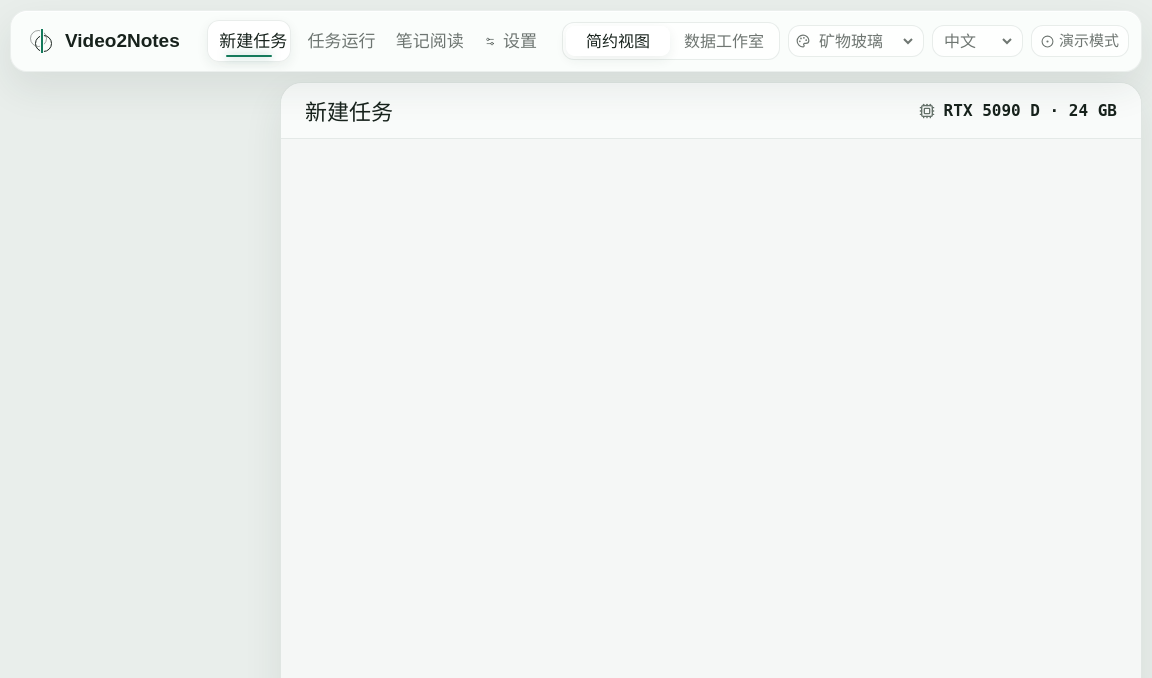
Test case: desktop workflow › switches navigation and settings copy to English and updates the document language
Select "English" in the dropdown named "界面语言" at (978, 41), box [940,29,1015,53]
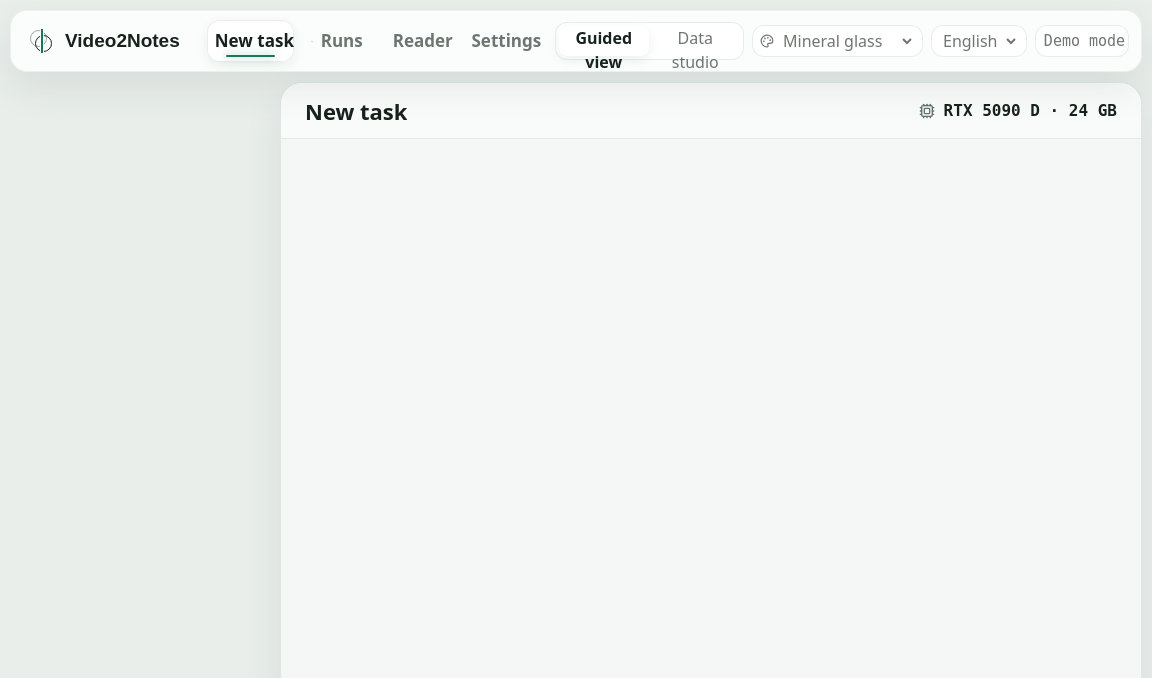
Expected: the button "New task" is shown, [207,20,294,62]
Expected: the button "Runs" is shown, [298,20,376,62]
Expected: the button "Reader" is shown, [380,20,458,62]
Click the button "Settings" at (502, 41), box [462,20,543,62]
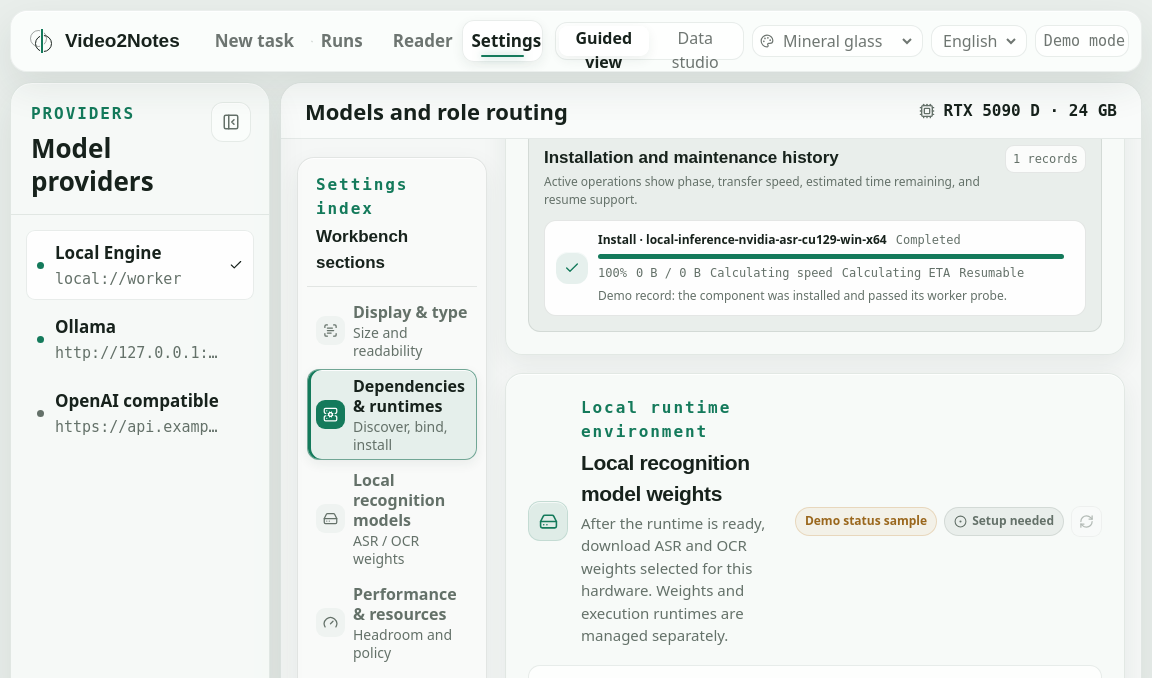
Expected: the text "Local runtime environment" is shown, [581,398,731,441]
